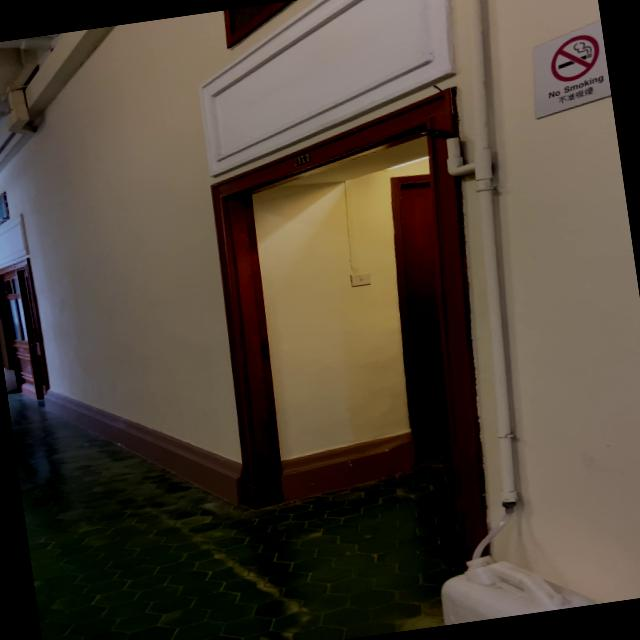room229: (292, 152, 312, 168)
